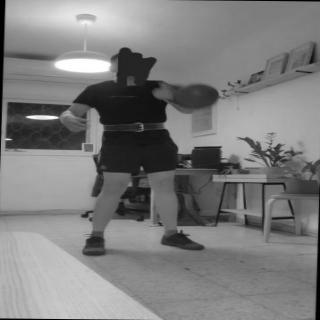kettlebell: (152, 80, 229, 114)
